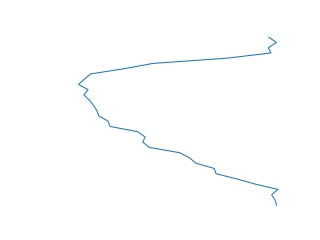mouthBar: (76, 37, 282, 208)
